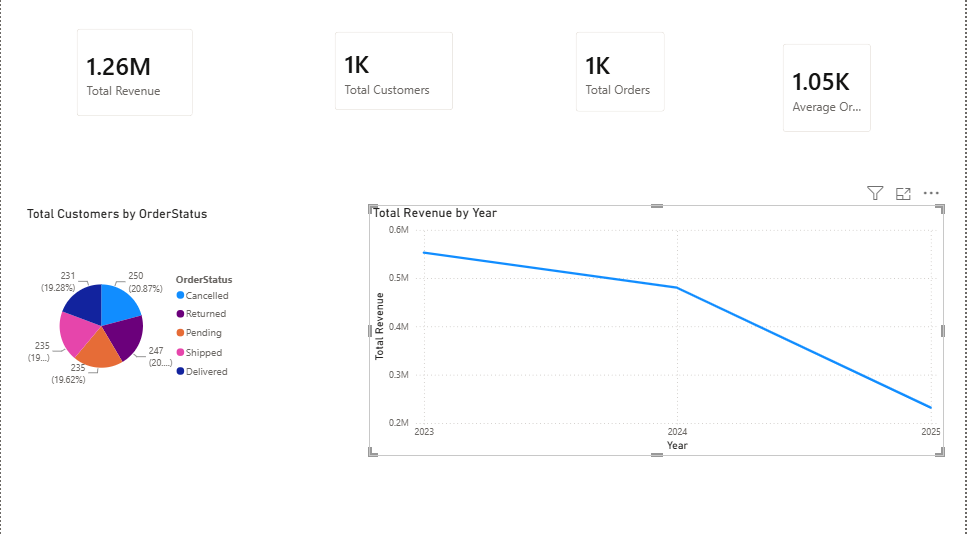

Layout of this report page (visuals, bound fields, positions):
{"tool":"powerbi","page":{"name":"Page 1","canvas":[1280,720],"ordinal":0},"visuals":[{"type":"pieChart","fields":{"Category":["Sheet1.OrderStatus"],"Y":["Sheet1.Total Customers"]},"box":[28.8,281.2,300,300],"z":1000},{"type":"cardVisual","fields":{"Data":["Sheet1.Total Revenue"]},"box":[83.8,28.8,188.8,150],"z":4000},{"type":"cardVisual","fields":{"Data":["Sheet1.Average Order Value"]},"box":[1043.2,21.1,152.2,150.8],"z":4001},{"type":"lineChart","fields":{"Category":["Sheet1.Date.Variation.Date Hierarchy.Year"],"Y":["Sheet1.Total Revenue"]},"box":[488.8,280.5,764.3,332.6],"z":4002},{"type":"cardVisual","fields":{"Data":["Sheet1.Total Orders"]},"box":[328.5,29,189,150],"z":4003},{"type":"cardVisual","fields":{"Data":["Sheet1.Total Customers"]},"box":[683.7,20.2,149.5,151.2],"z":4004}]}

Visuals, with their boxes in screenshot pixels (x1, y1, x2, y2), scaled from the page's 1280x720 canvas onto the 968x534 screenshot:
pieChart - Sheet1.OrderStatus x Sheet1.Total Customers: [left=22, top=209, right=249, bottom=431]
cardVisual - Sheet1.Total Revenue: [left=63, top=21, right=206, bottom=133]
cardVisual - Sheet1.Average Order Value: [left=789, top=16, right=904, bottom=127]
lineChart - Sheet1.Date.Variation.Date Hierarchy.Year x Sheet1.Total Revenue: [left=370, top=208, right=948, bottom=455]
cardVisual - Sheet1.Total Orders: [left=248, top=22, right=391, bottom=133]
cardVisual - Sheet1.Total Customers: [left=517, top=15, right=630, bottom=127]
